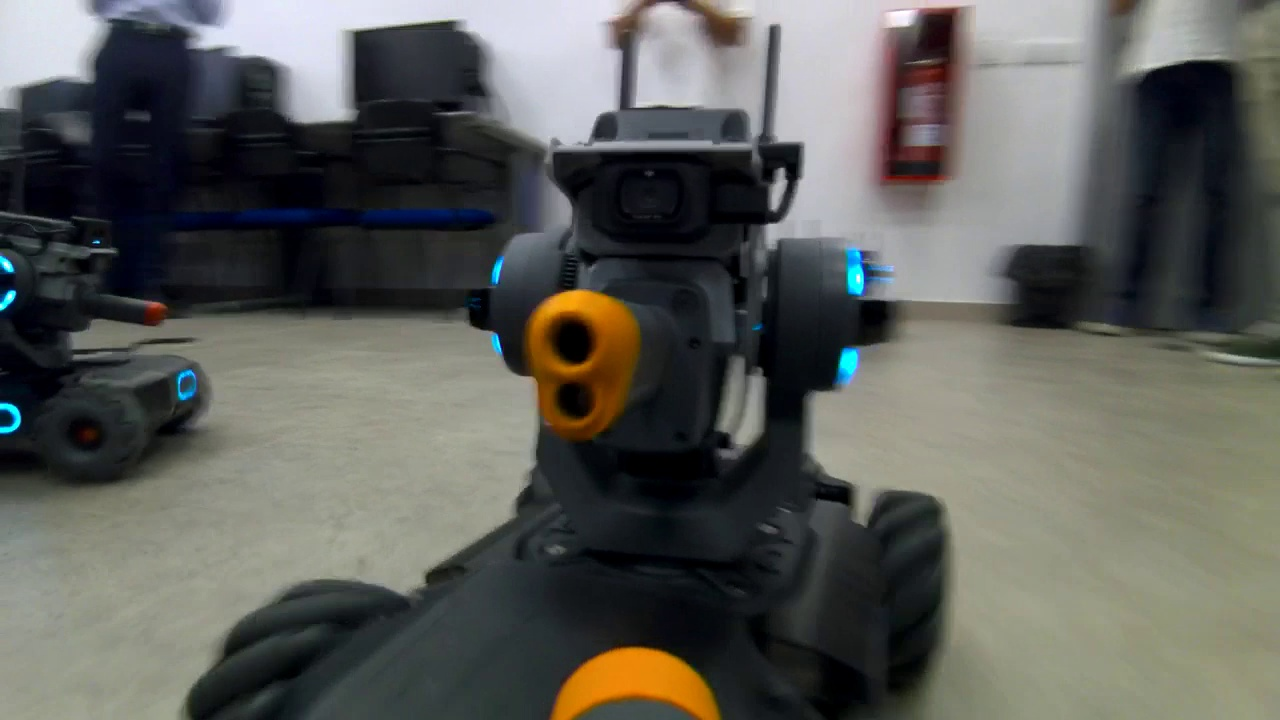robot: (175, 31, 1048, 720), (1, 202, 201, 477)
